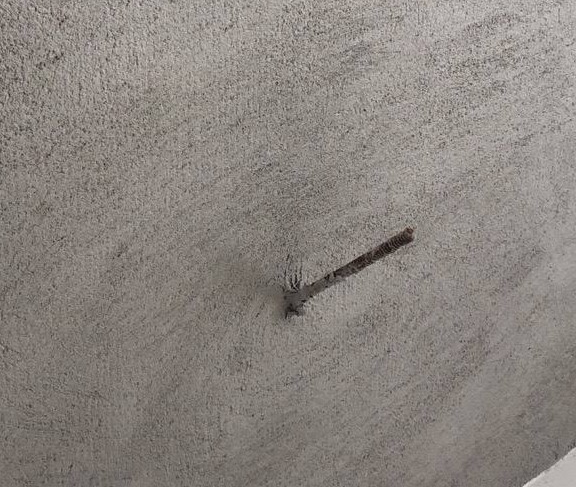Exposed reinforcement: (287, 225, 416, 309)
